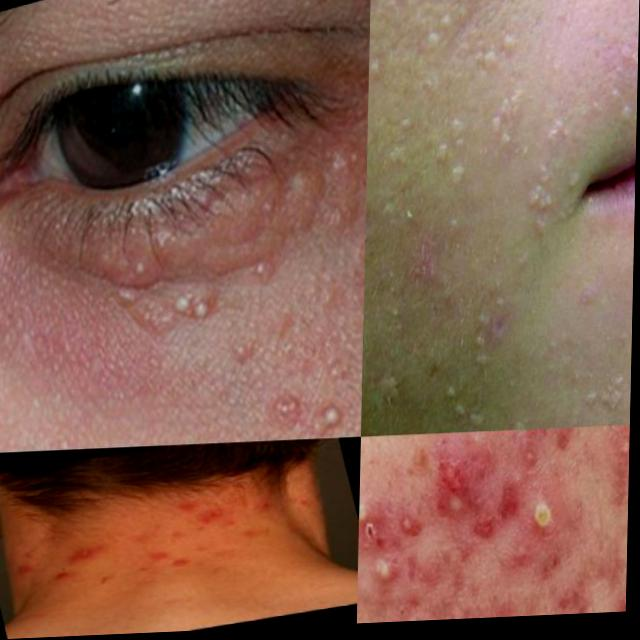7: (167, 279, 246, 345), (304, 376, 364, 442), (521, 167, 564, 253), (106, 264, 160, 307), (265, 399, 317, 442), (602, 389, 628, 429)
8: (173, 487, 241, 536), (68, 543, 106, 564), (147, 548, 175, 565), (171, 555, 197, 573), (56, 569, 83, 582)
9: (526, 488, 571, 552), (372, 545, 404, 602), (361, 487, 378, 542), (613, 433, 632, 471)
blackheads: (242, 165, 331, 248), (134, 205, 224, 274), (310, 144, 368, 246), (430, 461, 478, 551), (415, 227, 460, 296), (484, 299, 531, 362), (490, 480, 532, 541), (402, 547, 434, 602), (558, 587, 602, 620)
